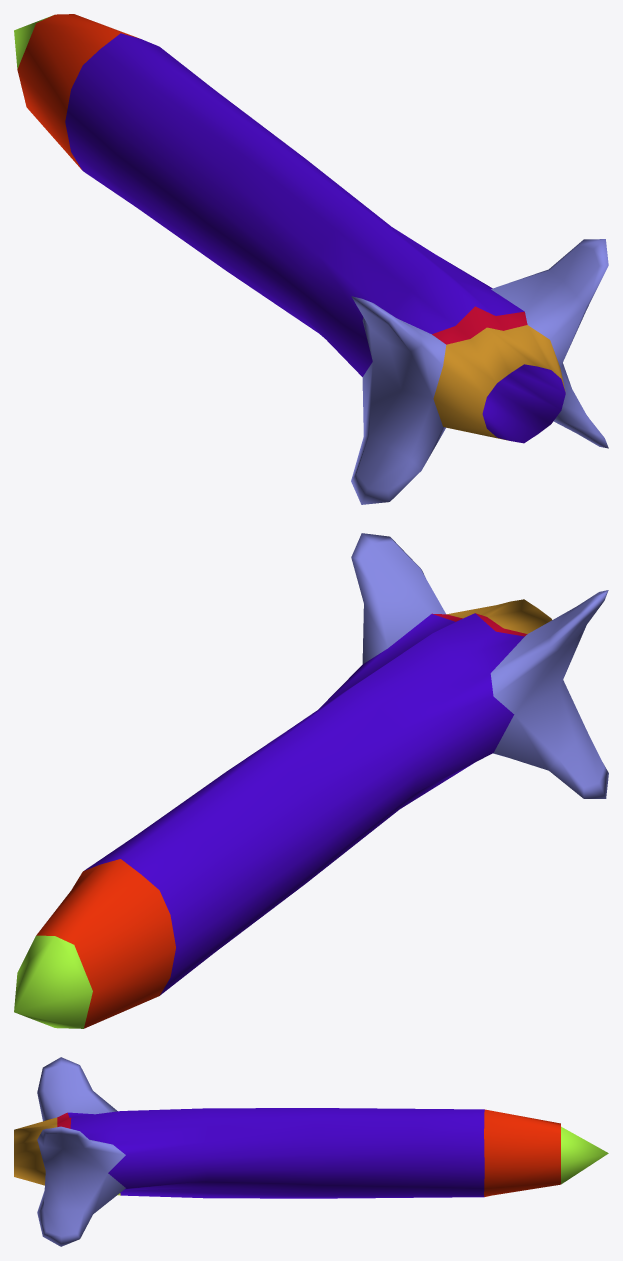
Rendered from EnemyMissile.fbx.
3 views of the same model, one above another, from view 1: azimuth 30°, elevation 25°; view 2: azimuth 150°, elevation 25°; view 3: azimuth 270°, elevation 25° (orthographic). The views are drawn at different scales.
Visible parts, largest first — view 1: Missile; view 2: Missile; view 3: Missile.
Part boxes in pixels (x1,y1,x2,y2): Missile: (14,14,608,504); Missile: (14,533,608,1028); Missile: (14,1057,608,1246).
Size of the model in its own units: 225 by 182 by 814.
